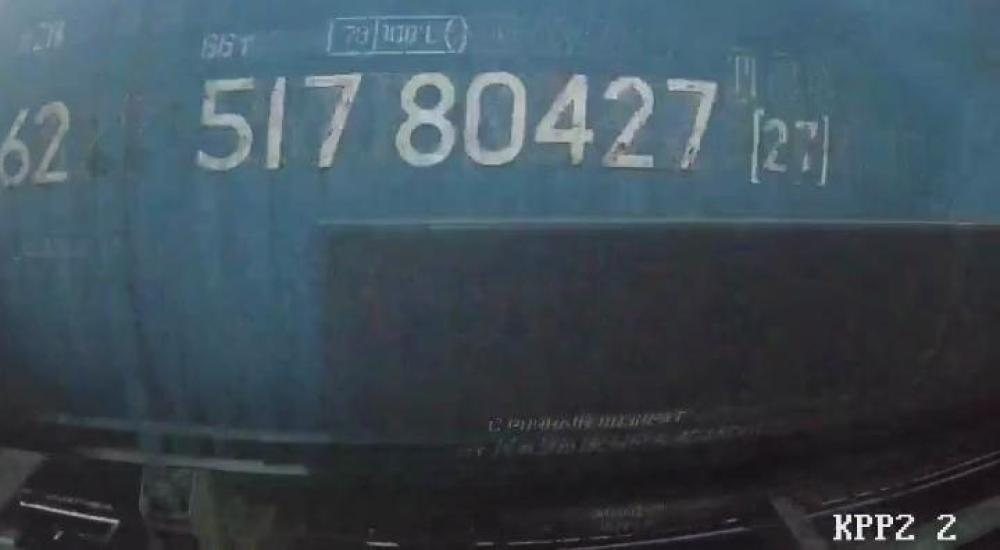Wagon-number: (190, 66, 727, 182)
